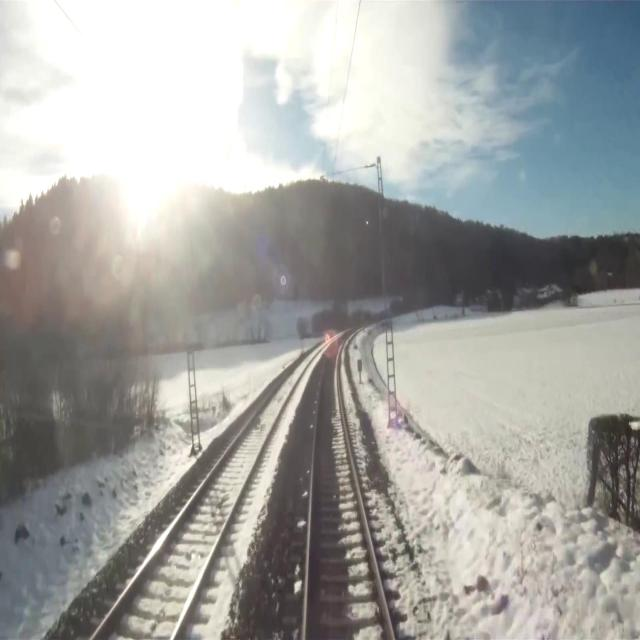rail-track: (94, 350, 315, 639), (307, 340, 389, 639)
